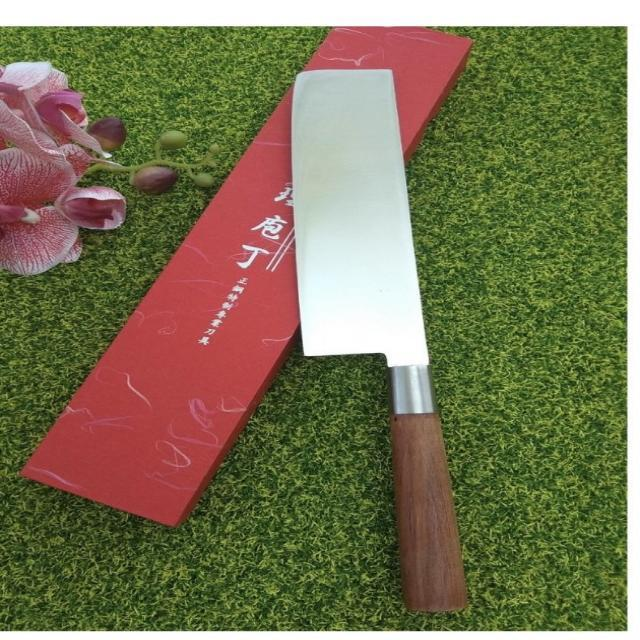Knife: (266, 67, 480, 624)
